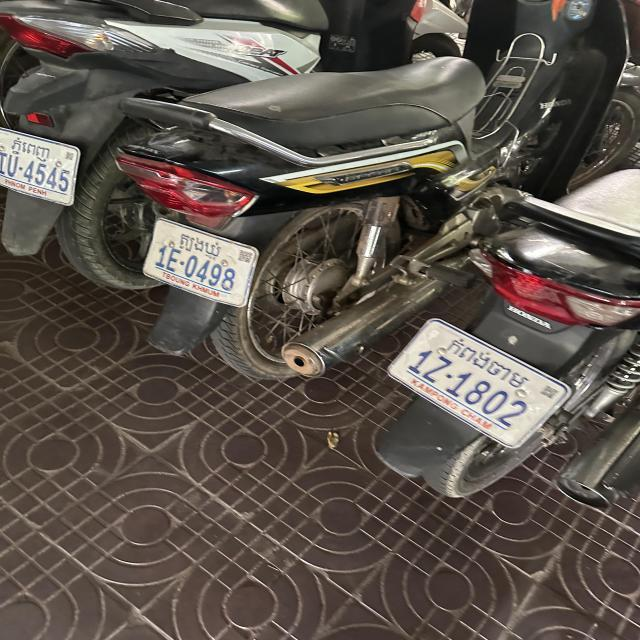Kampong_Cham: (447, 337, 528, 389)
Tboung_Khmum: (178, 233, 224, 260)
